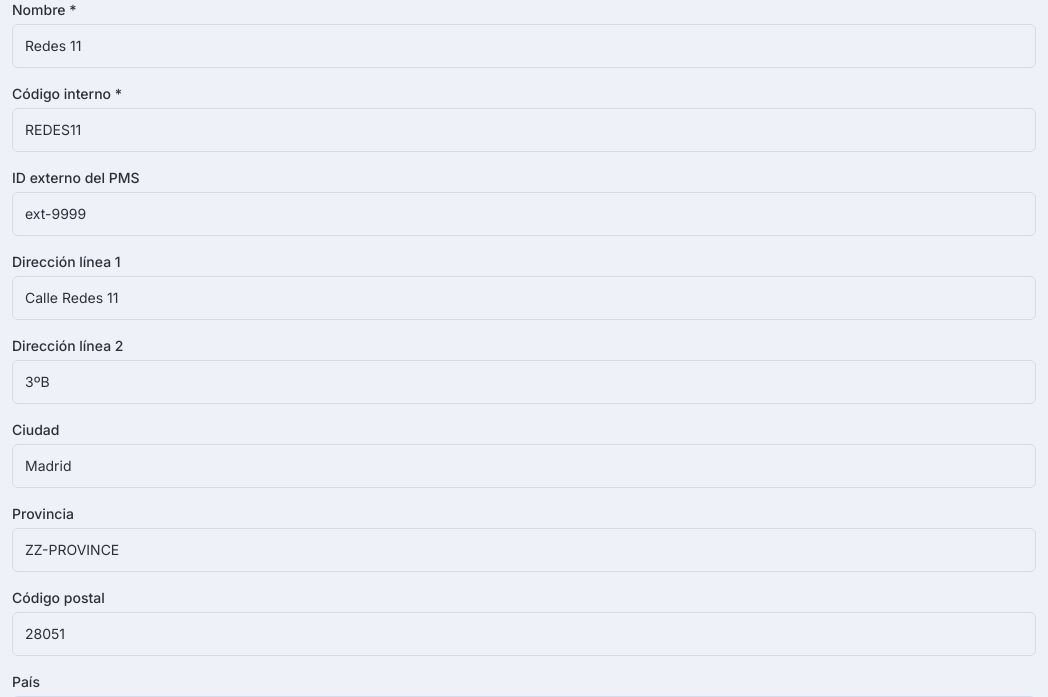
Test: EditPropertyForm — validation errors reach the field (R4.2, task 6.1) › points the invalid control at its own error message with `aria-describedby`
Clear the field labelled "Nombre *" at (524, 46), box [12, 24, 1036, 68]
(page scrolled)
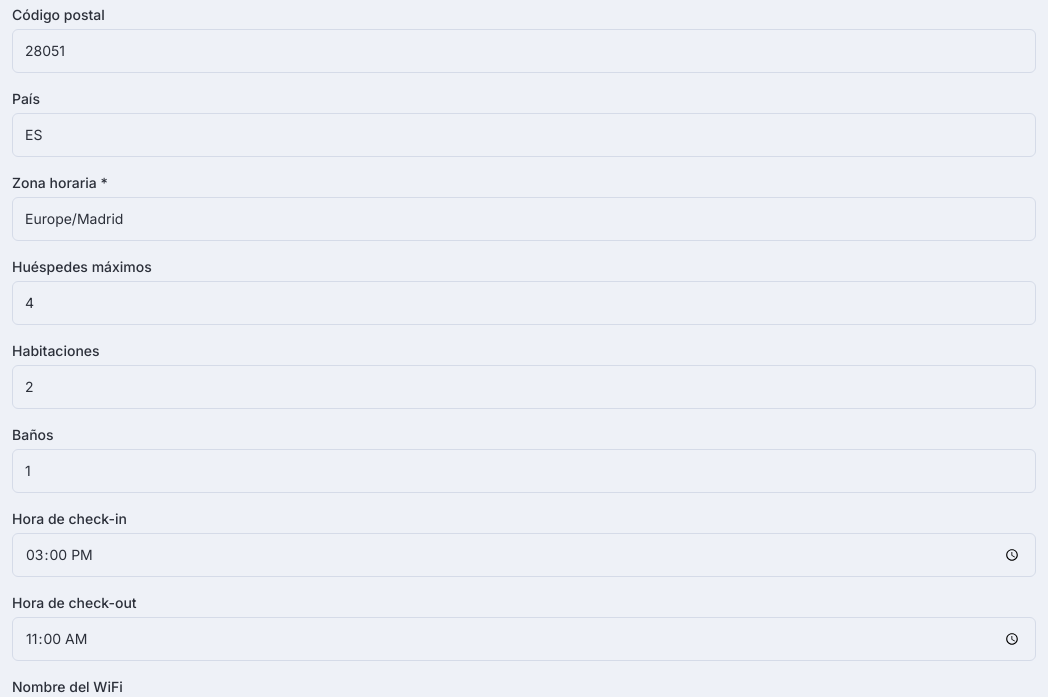
Submit the form
(page scrolled)
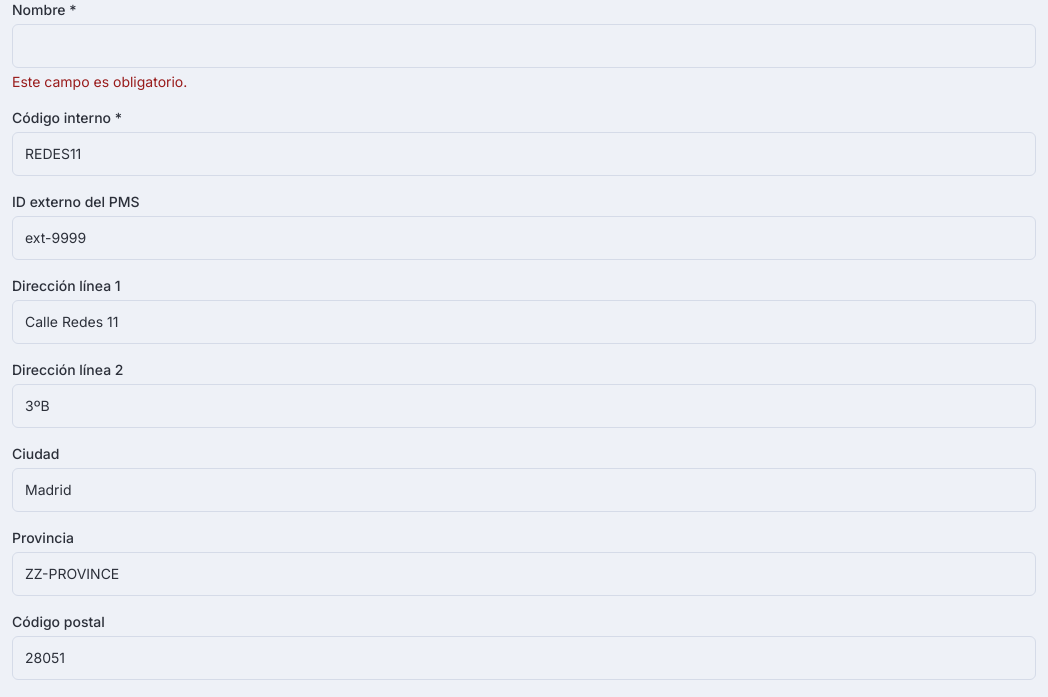
Expected: the message "Este campo es obligatorio." is shown, [12, 73, 187, 90]
